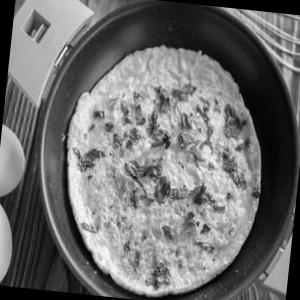omelet: (41, 26, 277, 300)
